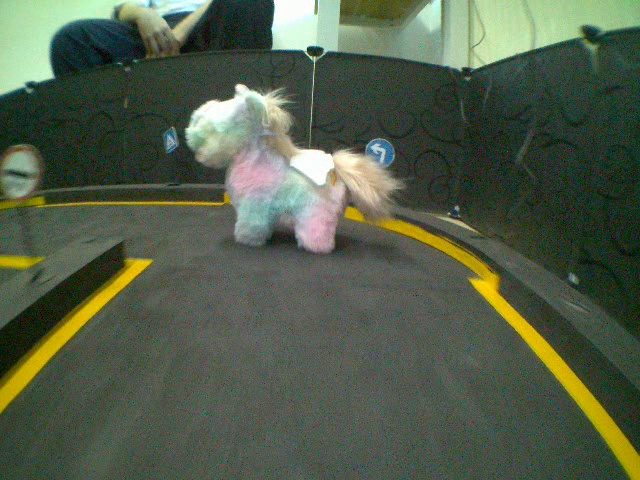unicorn: (179, 82, 403, 256)
